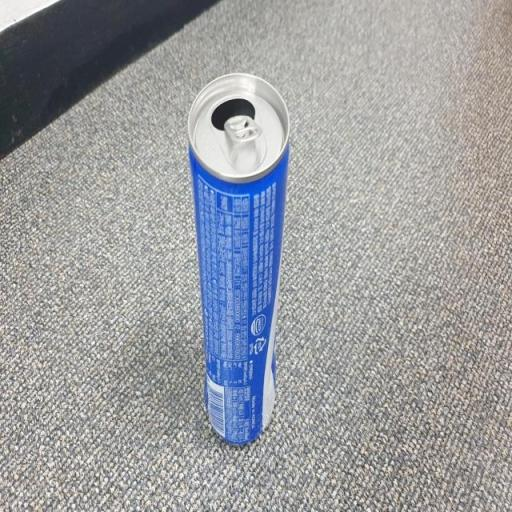metal: (172, 62, 315, 456)
